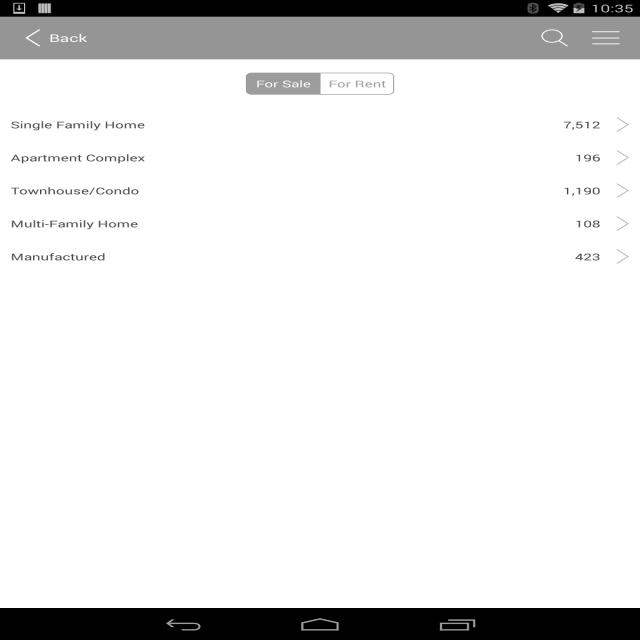ImageView: (26, 29, 40, 47), (616, 117, 630, 132), (616, 150, 630, 165), (616, 183, 630, 198), (616, 216, 630, 231), (616, 249, 630, 264)
RadioButton: (246, 72, 320, 94), (320, 72, 394, 94)
TextView: (10, 151, 146, 164), (11, 118, 145, 131), (580, 22, 632, 54), (11, 184, 139, 197), (11, 217, 138, 230), (529, 22, 580, 54), (10, 250, 106, 263), (49, 31, 87, 45), (563, 118, 601, 131), (563, 184, 601, 197), (575, 151, 600, 164), (575, 217, 600, 230), (575, 250, 600, 263)
